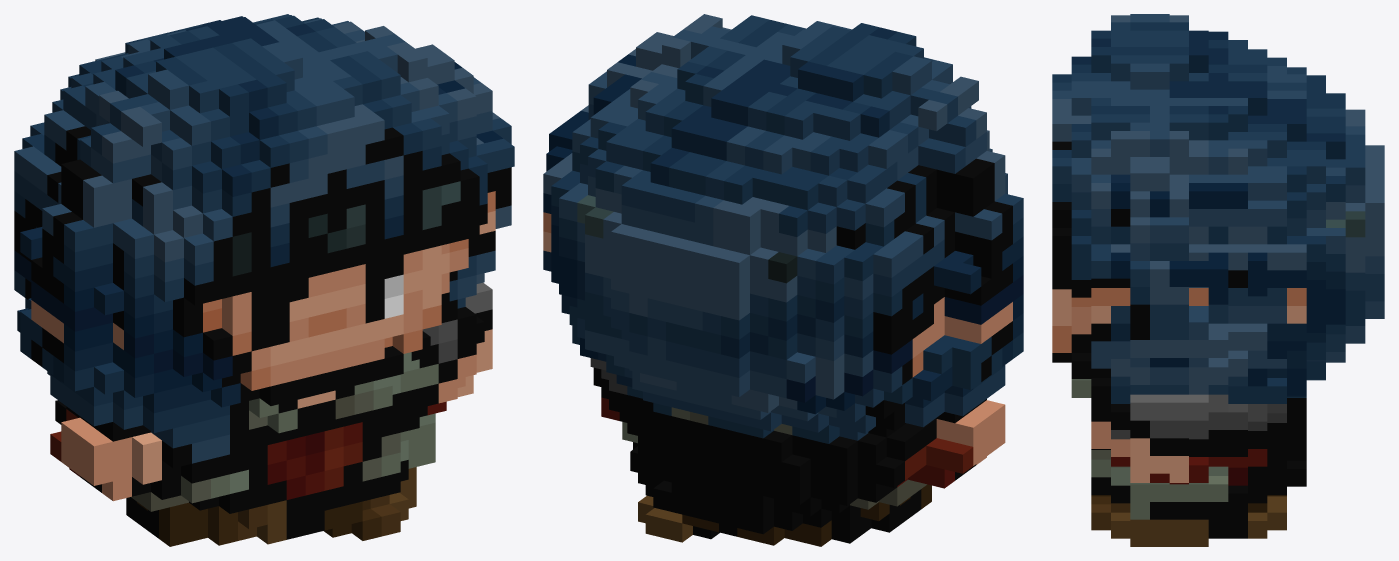
The model's file is Icon_752_01.obj.
The picture shows the model from 3 angles, left to right: view 1: azimuth 30°, elevation 25°; view 2: azimuth 150°, elevation 25°; view 3: azimuth 270°, elevation 25°; orthographic projection. The views are drawn at different scales.
Bounding box in the file's own units: 2.3 × 2.4 × 1.7.
1 material, 1 textured.
